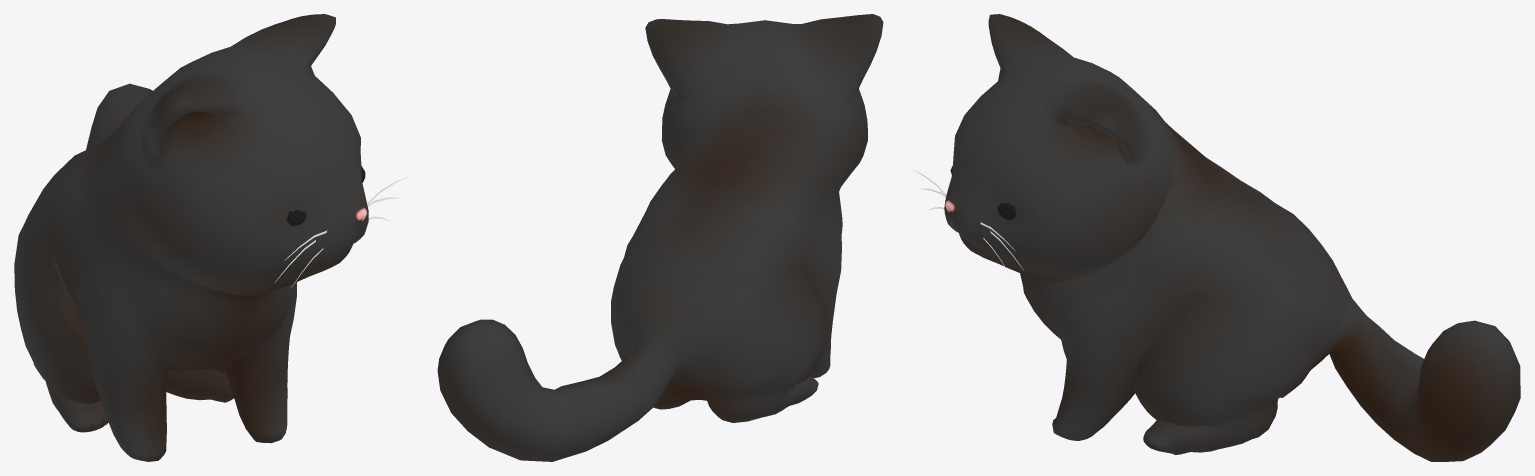
The model's file is blackcat.glb.
3 renders of one model, left to right at view 1: azimuth 30°, elevation 25°; view 2: azimuth 150°, elevation 25°; view 3: azimuth 270°, elevation 25°, orthographic. The views are drawn at different scales.
Parts seen in each view (by area): view 1: blackcat; view 2: blackcat; view 3: blackcat.
Part boxes in pixels (x1,y1,x2,y2): blackcat: (14,14,408,461); blackcat: (437,14,883,461); blackcat: (912,14,1520,461).
Size of the model in its own units: 0.1628 by 0.2115 by 0.3098.
1 material, 1 textured.
